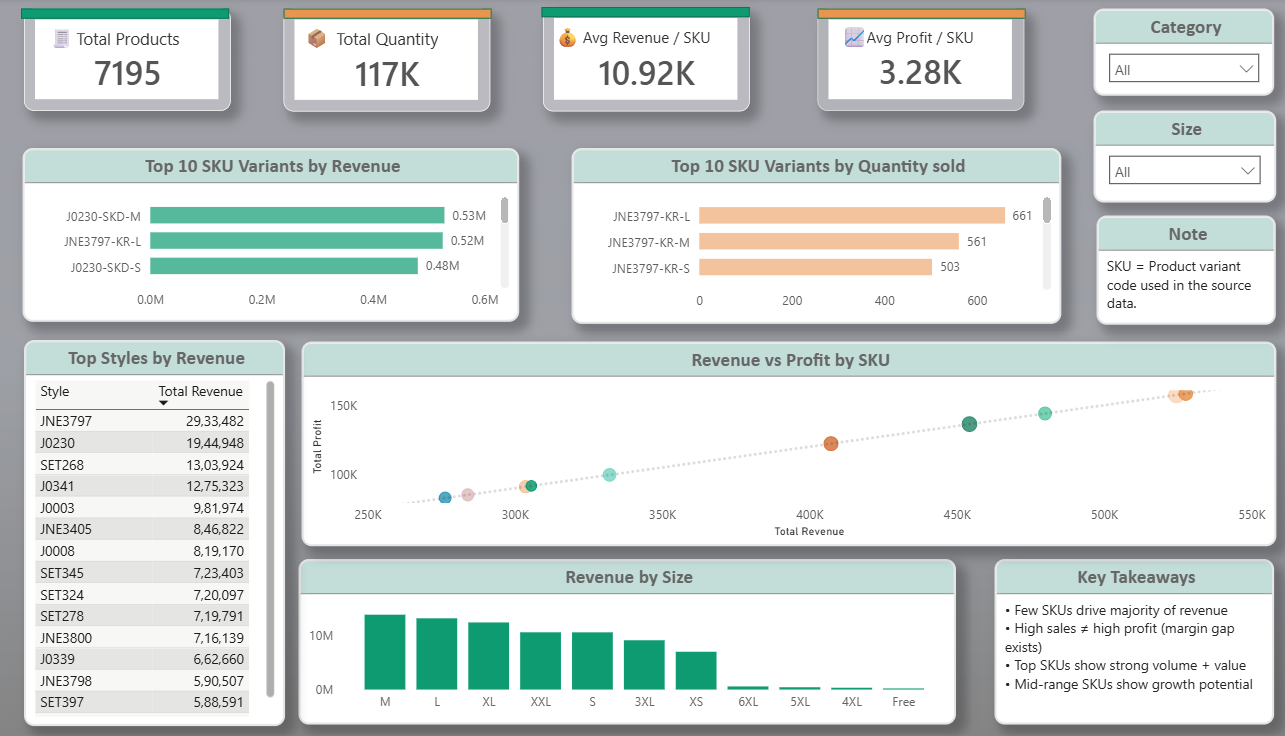

Layout of this report page (visuals, bound fields, positions):
{"tool":"powerbi","page":{"name":"Product Performance Analysis","canvas":[1280,720],"ordinal":1},"visuals":[{"type":"cardVisual","fields":{"Data":["All Measures.Total Products"]},"box":[49.7,9.9,200.4,99.4],"z":0},{"type":"clusteredColumnChart","title":"Revenue by Size","fields":{"Y":["Fact_Sales.Total Revenue"],"Category":["Dim_Product.Size"]},"box":[316.4,545,637.7,160.7],"z":1000},{"type":"cardVisual","fields":{"Data":["All Measures.Total Quantity"]},"box":[300.9,9.9,200.4,100],"z":2000},{"type":"clusteredBarChart","title":"Top 10 SKU Variants by Revenue","fields":{"Y":["Fact_Sales.Total Revenue"],"Category":["Dim_Product.SKU"]},"box":[48,145.8,482,169],"z":3000},{"type":"cardVisual","fields":{"Data":["All Measures.Avg Revenue per Product"]},"box":[553.3,8.3,200.4,101],"z":4000},{"type":"textbox","title":"Key Takeaways","box":[990.6,545,271.7,160.7],"z":5000},{"type":"clusteredBarChart","title":"Top 10 SKU Variants by Quantity sold","fields":{"Category":["Dim_Product.SKU"],"Y":["All Measures.Total Quantity"]},"box":[581.4,145.8,475.4,170.6],"z":6000},{"type":"scatterChart","title":"Revenue vs Profit by SKU","fields":{"X":["All Measures.Total Revenue"],"Y":["All Measures.Total Profit"],"Size":["All Measures.Total Quantity"],"Series":["Dim_Product.SKU"]},"box":[318,333,945.9,198.8],"z":7000},{"type":"tableEx","title":"Top Styles by Revenue","fields":{"Values":["Dim_Product.Style","All Measures.Total Revenue"]},"box":[49.1,332.4,253.4,374.4],"z":8000},{"type":"shape","box":[46.4,9.9,202.1,9.9],"z":9000},{"type":"slicer","title":"Category","fields":{"Values":["Dim_Product.Category"]},"box":[1086.7,9.9,175.6,84.5],"z":10000},{"type":"shape","box":[301.5,9.9,202.1,9.9],"z":11000},{"type":"slicer","title":"Size","fields":{"Values":["Dim_Product.Size"]},"box":[1086.7,109.3,177.2,89.4],"z":12000},{"type":"textbox","title":"Note","box":[1090,210.4,173.9,106],"z":13000},{"type":"cardVisual","fields":{"Data":["All Measures.Avg Profit per Product"]},"box":[820,9.9,200.4,99.4],"z":14000},{"type":"textbox","box":[558.2,18.2,46.4,39.8],"z":14001},{"type":"textbox","box":[833.2,18.2,46.4,39.8],"z":14001},{"type":"textbox","box":[67.9,19.9,46.4,39.8],"z":14001},{"type":"textbox","box":[316.4,19.9,46.4,39.8],"z":14001},{"type":"shape","box":[820,9.9,202.1,9.9],"z":15000},{"type":"shape","box":[551.6,8.3,202.1,9.9],"z":16000}]}

Visuals, with their boxes in screenshot pixels (x1, y1, x2, y2), scaled from the page's 1280x720 canvas onto the 1285x736 screenshot:
cardVisual - All Measures.Total Products: (50, 10, 251, 112)
"Revenue by Size" clusteredColumnChart: (318, 557, 958, 721)
cardVisual - All Measures.Total Quantity: (302, 10, 503, 112)
"Top 10 SKU Variants by Revenue" clusteredBarChart: (48, 149, 532, 322)
cardVisual - All Measures.Avg Revenue per Product: (555, 8, 757, 112)
"Key Takeaways" textbox: (994, 557, 1267, 721)
"Top 10 SKU Variants by Quantity sold" clusteredBarChart: (584, 149, 1061, 323)
"Revenue vs Profit by SKU" scatterChart: (319, 340, 1269, 544)
"Top Styles by Revenue" tableEx: (49, 340, 304, 723)
shape: (47, 10, 249, 20)
"Category" slicer: (1091, 10, 1267, 96)
shape: (303, 10, 506, 20)
"Size" slicer: (1091, 112, 1269, 203)
"Note" textbox: (1094, 215, 1269, 323)
cardVisual - All Measures.Avg Profit per Product: (823, 10, 1024, 112)
textbox: (560, 19, 607, 59)
textbox: (836, 19, 883, 59)
textbox: (68, 20, 115, 61)
textbox: (318, 20, 364, 61)
shape: (823, 10, 1026, 20)
shape: (554, 8, 757, 19)
